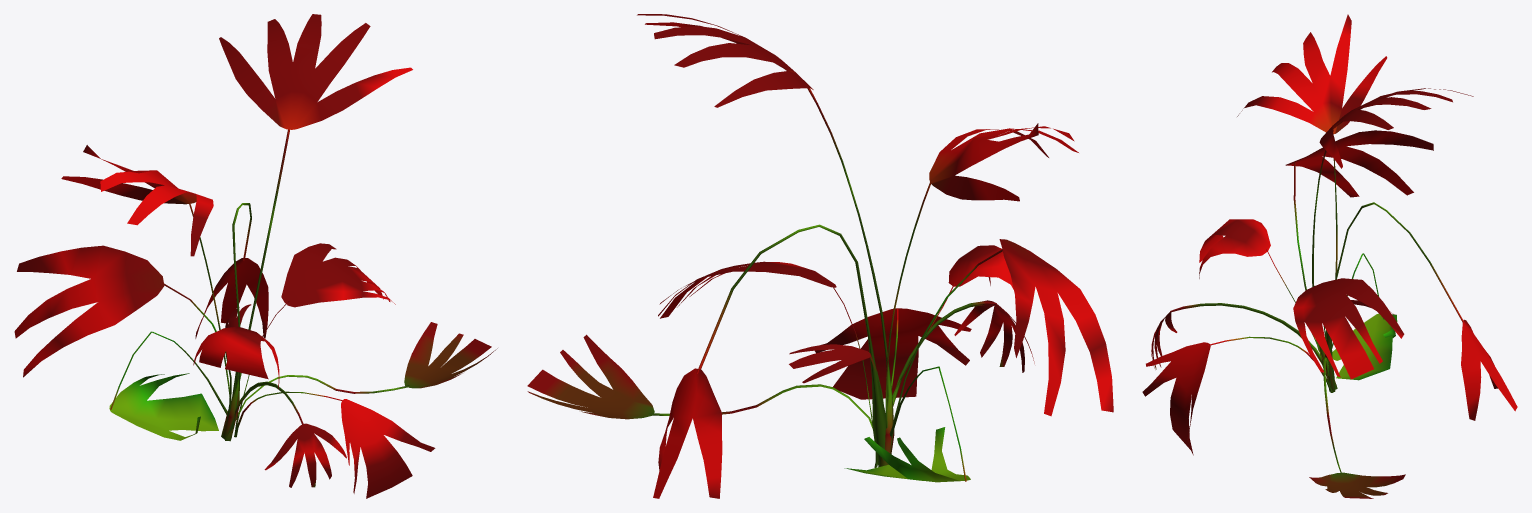
The model's file is Var3_LOD0.fbx.
The picture shows the model from 3 angles, left to right: view 1: azimuth 30°, elevation 25°; view 2: azimuth 150°, elevation 25°; view 3: azimuth 270°, elevation 25°; orthographic projection. The views are drawn at different scales.
Visible parts, largest first — view 1: _b78b_Var3_LOD0; view 2: _b78b_Var3_LOD0; view 3: _b78b_Var3_LOD0.
Part boxes in pixels (bbox=[...]): _b78b_Var3_LOD0: bbox=[14, 14, 497, 498]; _b78b_Var3_LOD0: bbox=[527, 14, 1113, 498]; _b78b_Var3_LOD0: bbox=[1142, 14, 1517, 498].
Bounding box in the file's own units: 178 × 136 × 128.
